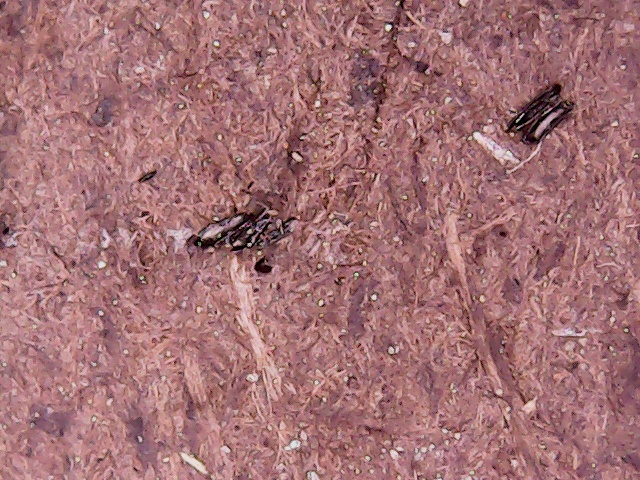full: (510, 75, 564, 132), (194, 207, 249, 251), (533, 101, 574, 150)
